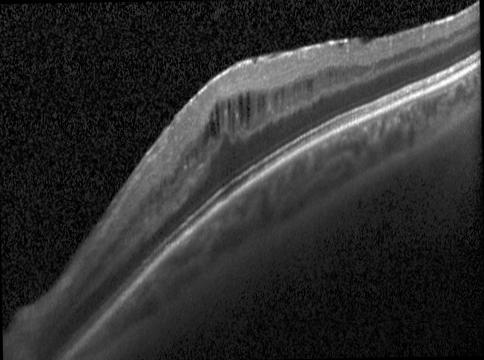intraretinal_cyst: (209, 113, 217, 140), (231, 99, 236, 139), (245, 92, 251, 124), (238, 96, 244, 127), (257, 95, 266, 113), (215, 102, 220, 133), (203, 125, 209, 146), (227, 99, 231, 130), (306, 79, 313, 91), (273, 91, 278, 106), (329, 70, 334, 83), (221, 105, 224, 126), (194, 146, 198, 160), (280, 88, 283, 105), (293, 80, 296, 94), (186, 155, 189, 168), (299, 85, 302, 95), (191, 149, 194, 158), (297, 83, 299, 96), (201, 144, 204, 152), (303, 83, 305, 92), (287, 86, 289, 93), (284, 86, 286, 91)
